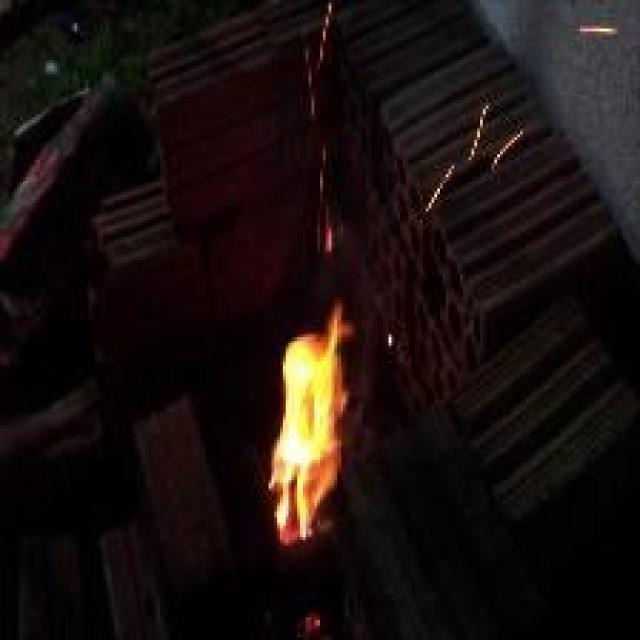fire: (220, 51, 409, 543)
